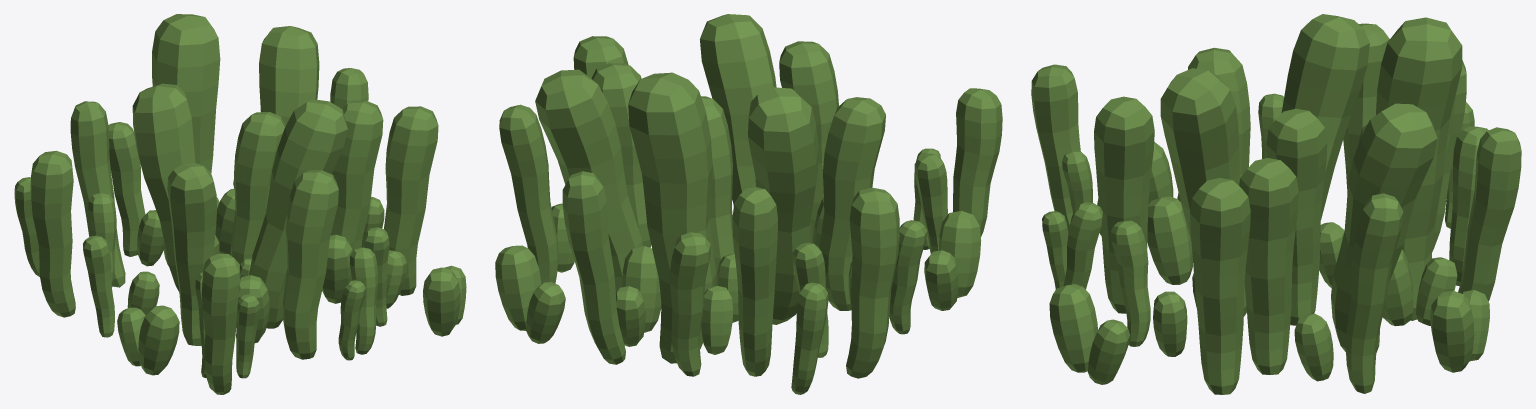
The model's file is Grass1.fbx.
3 renders of one model, left to right at view 1: azimuth 30°, elevation 25°; view 2: azimuth 150°, elevation 25°; view 3: azimuth 270°, elevation 25°, orthographic. The views are drawn at different scales.
Visible parts, largest first — view 1: Cube.058, Cube.072, Cube.073, Cube.060, Cube.057, Cube.061, Cube.075, Cube.059, Cube.062, Cube.063, Cube.074, Cube.068 (+21 smaller); view 2: Cube.060, Cube.057, Cube.063, Cube.061, Cube.075, Cube.058, Cube.068, Cube.151, Cube.069, Cube.074, Cube.084, Cube.072 (+17 smaller); view 3: Cube.073, Cube.060, Cube.062, Cube.063, Cube.058, Cube.057, Cube.072, Cube.069, Cube.059, Cube.151, Cube.074, Cube.090 (+20 smaller).
Part boxes in pixels (<box>): Cube.058: <box>249,99,347,328</box>; Cube.072: <box>282,170,338,359</box>; Cube.073: <box>384,106,438,295</box>; Cube.060: <box>152,14,220,266</box>; Cube.057: <box>132,83,195,291</box>; Cube.061: <box>167,163,216,345</box>; Cube.075: <box>30,150,75,317</box>; Cube.059: <box>231,112,285,264</box>; Cube.062: <box>330,100,383,250</box>; Cube.063: <box>259,26,319,125</box>; Cube.074: <box>202,253,240,394</box>; Cube.068: <box>70,101,125,287</box>; Cube.060: <box>628,72,715,363</box>; Cube.057: <box>748,87,818,324</box>; Cube.063: <box>535,69,642,293</box>; Cube.061: <box>819,97,885,310</box>; Cube.075: <box>846,187,899,378</box>; Cube.058: <box>700,14,776,205</box>; Cube.068: <box>732,187,777,376</box>; Cube.151: <box>562,171,625,364</box>; Cube.069: <box>499,104,558,283</box>; Cube.074: <box>953,88,1002,236</box>; Cube.084: <box>670,232,710,376</box>; Cube.072: <box>779,41,838,243</box>; Cube.073: <box>1190,177,1250,394</box>; Cube.060: <box>1376,17,1462,320</box>; Cube.062: <box>1239,158,1298,374</box>; Cube.063: <box>1331,103,1437,352</box>; Cube.058: <box>1160,68,1246,316</box>; Cube.057: <box>1281,14,1369,220</box>; Cube.072: <box>1094,96,1154,313</box>; Cube.069: <box>1345,193,1403,393</box>; Cube.059: <box>1266,108,1327,325</box>; Cube.151: <box>1458,127,1521,301</box>; Cube.074: <box>1031,64,1080,233</box>; Cube.090: <box>1110,220,1150,346</box>.
Size of the model in its own units: 0.9814 by 1.02 by 0.6901.
